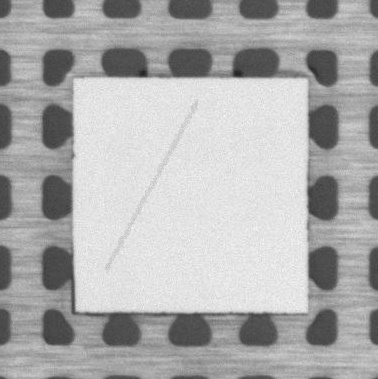DIE_CRACK: (106, 101, 197, 271)
